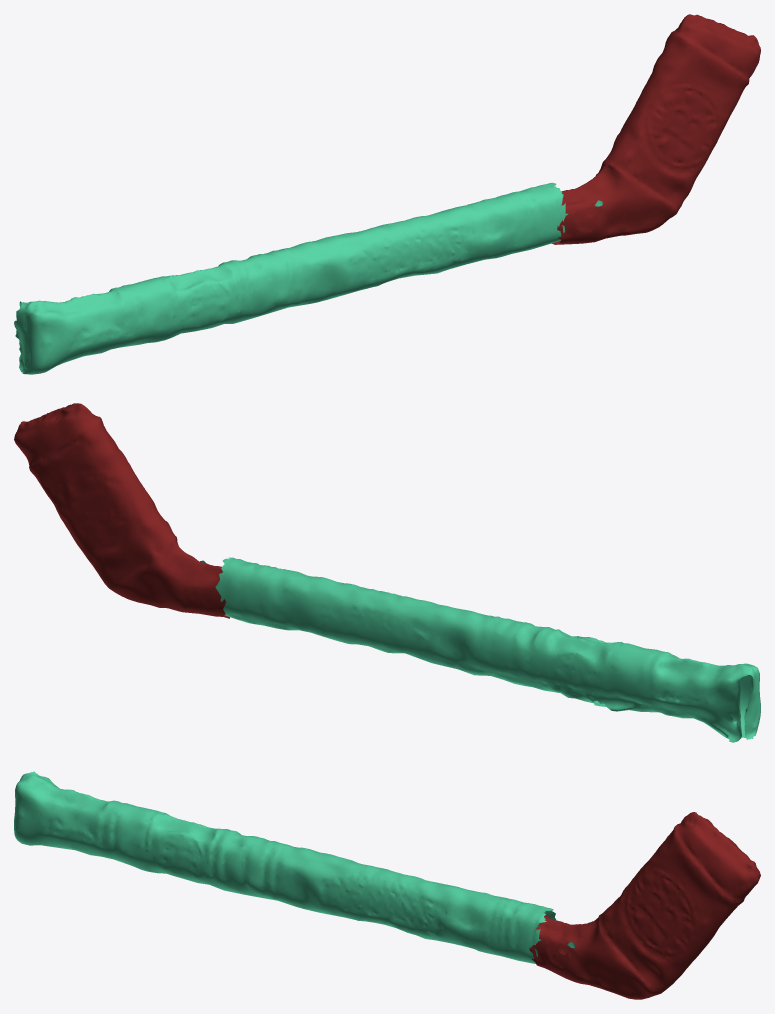
Rendered from object_deformed_4.obj.
3 renders of one model, top to bottom at view 1: azimuth 30°, elevation 25°; view 2: azimuth 150°, elevation 25°; view 3: azimuth 330°, elevation 25°, orthographic. The views are drawn at different scales.
Bounding box in the file's own units: 0.5716 × 0.1438 × 0.0461.
